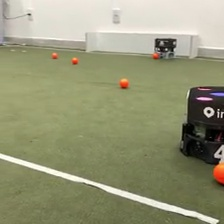ball: (211, 159, 224, 184), (118, 76, 129, 88), (70, 55, 79, 64), (50, 50, 58, 58), (152, 52, 159, 59)
goal: (84, 28, 200, 59)
robot: (177, 83, 224, 165), (154, 37, 178, 60)
